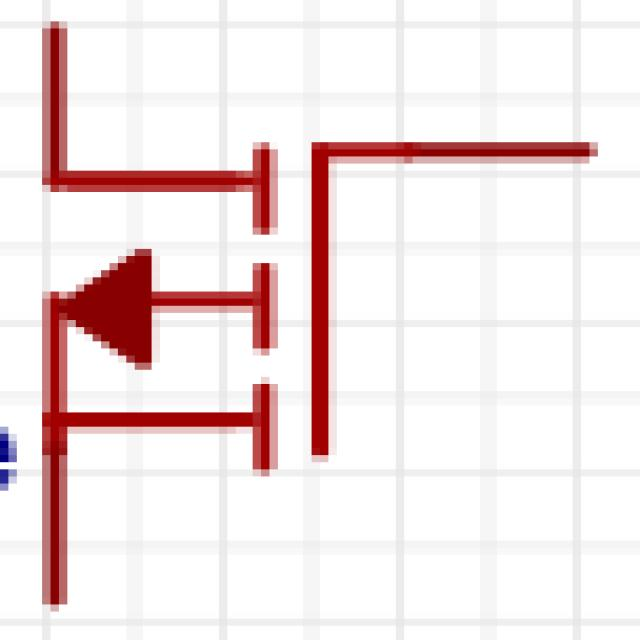pmos: (17, 20, 632, 563)
